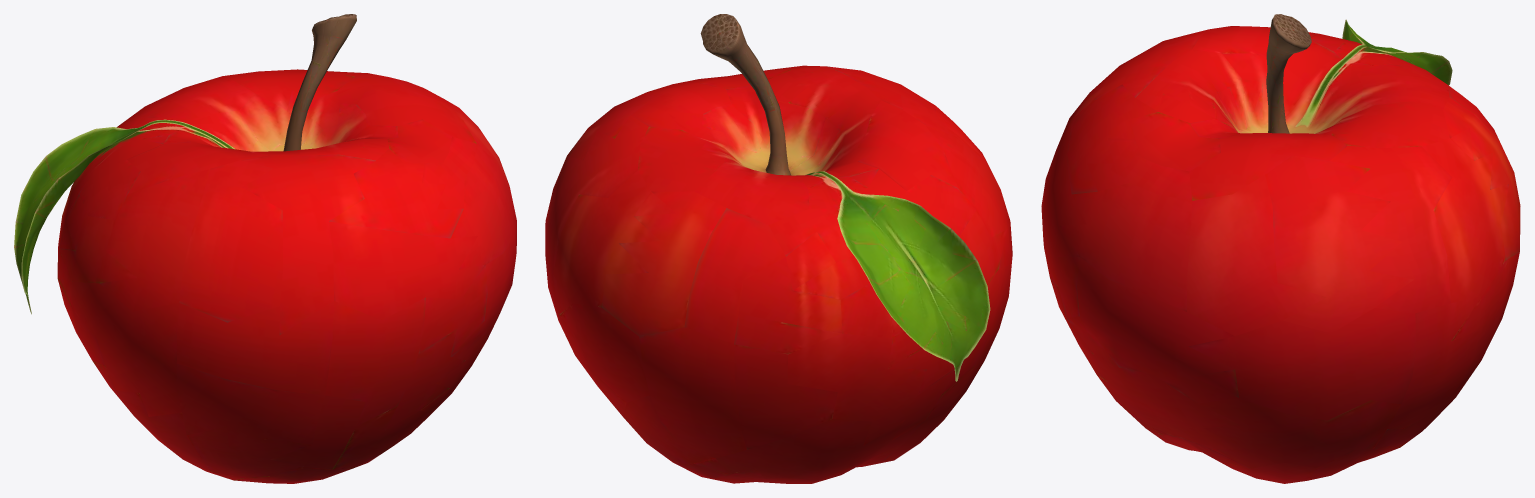
Rendered from apple.glb.
3 renders of one model, left to right at view 1: azimuth 30°, elevation 25°; view 2: azimuth 150°, elevation 25°; view 3: azimuth 270°, elevation 25°, orthographic. The views are drawn at different scales.
Bounding box in the file's own units: 0.9595 × 0.8647 × 0.8296.
1 material, 1 textured.
